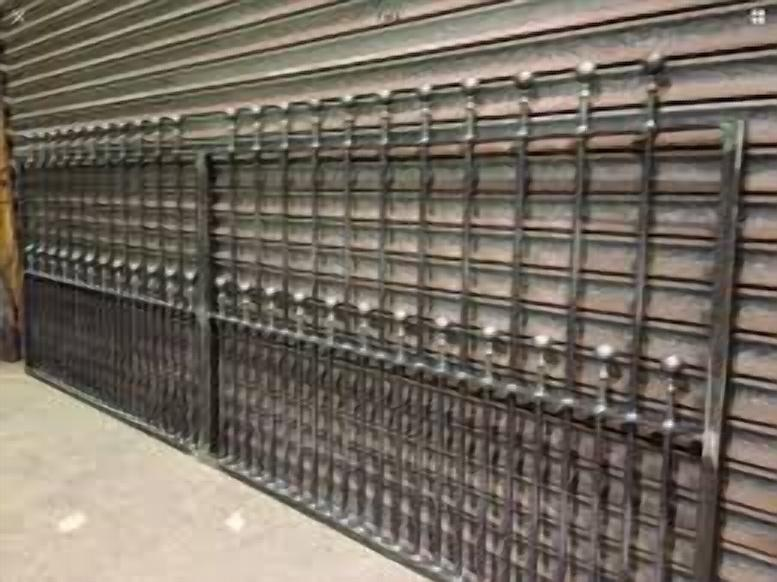Gate: (0, 53, 777, 582)
